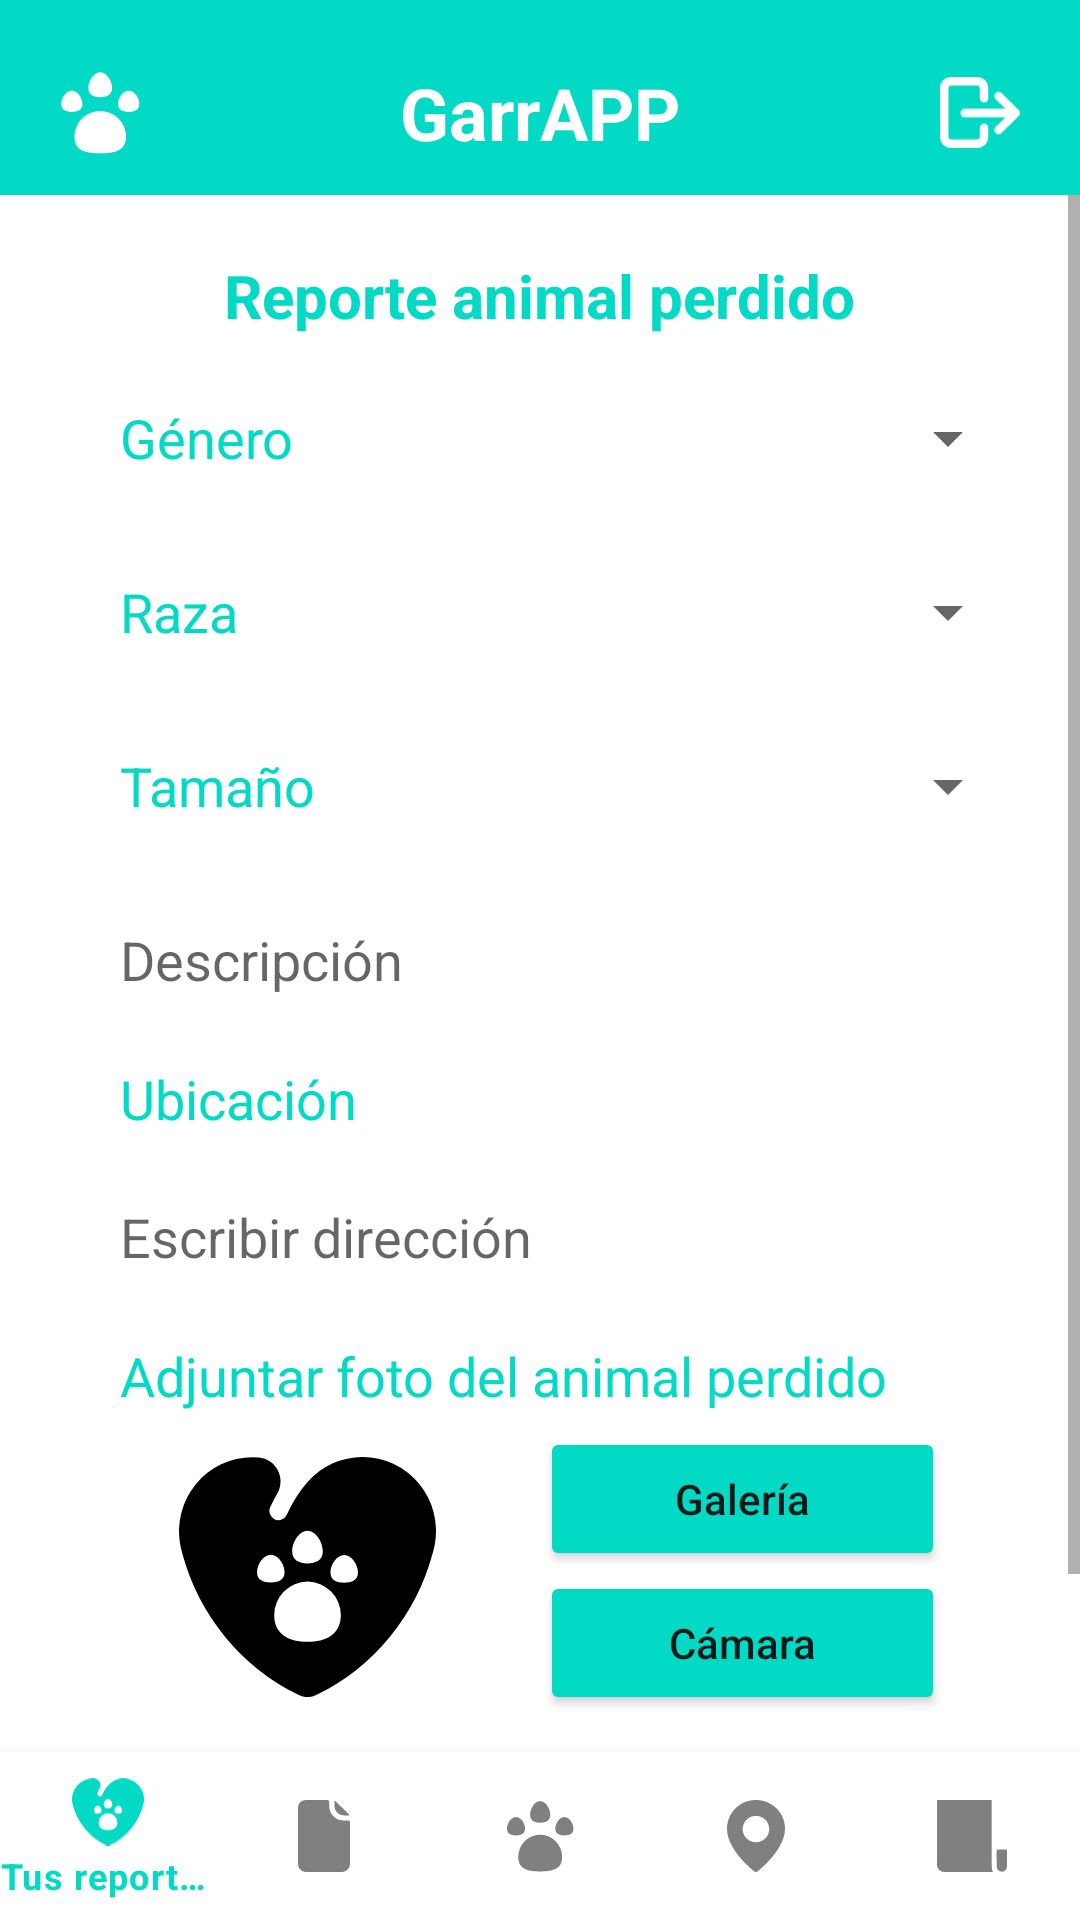

Named icons in this screenshot (1080w x 1920h) and their bounding boxes, {"x1": x1, "y1": y1, "x2": x2, "y2": y2}:
heart: {"x1": 179, "y1": 1457, "x2": 436, "y2": 1697}
